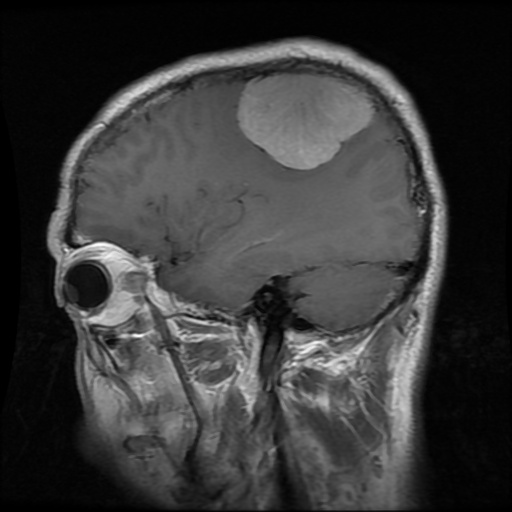meningioma: (238, 72, 376, 169)
